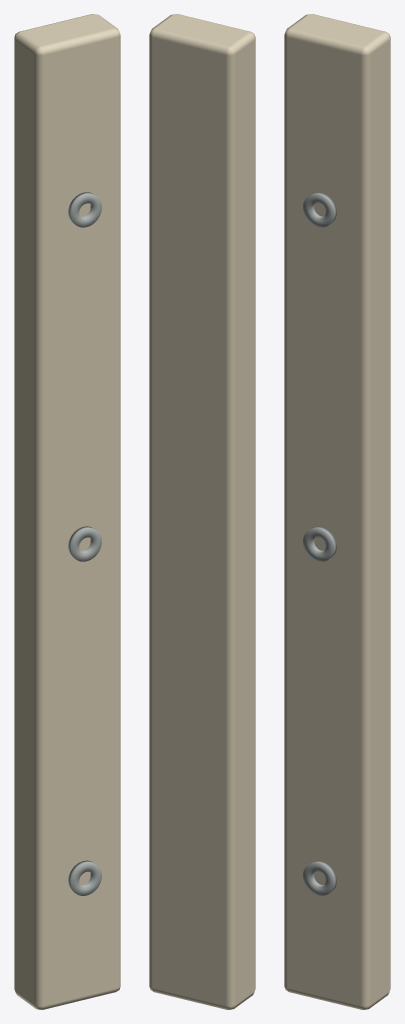
The model's file is canal-boats-and-lock-operations-canal-boats-and-lock-o-80d4ff8c__31632.glb.
3 views of the same model, side by side, from view 1: azimuth 30°, elevation 25°; view 2: azimuth 150°, elevation 25°; view 3: azimuth 330°, elevation 25° (orthographic).
Visible parts, largest first — view 1: canal-boats-and-lock-operations-rubbing-strip; view 2: canal-boats-and-lock-operations-rubbing-strip; view 3: canal-boats-and-lock-operations-rubbing-strip.
Boxes of the visible parts, <box> form: canal-boats-and-lock-operations-rubbing-strip: <box>14,14,120,1009</box>; canal-boats-and-lock-operations-rubbing-strip: <box>149,14,255,1009</box>; canal-boats-and-lock-operations-rubbing-strip: <box>284,14,390,1009</box>.
Bounding box in the file's own units: 0.1399 × 1.5 × 0.0916.
